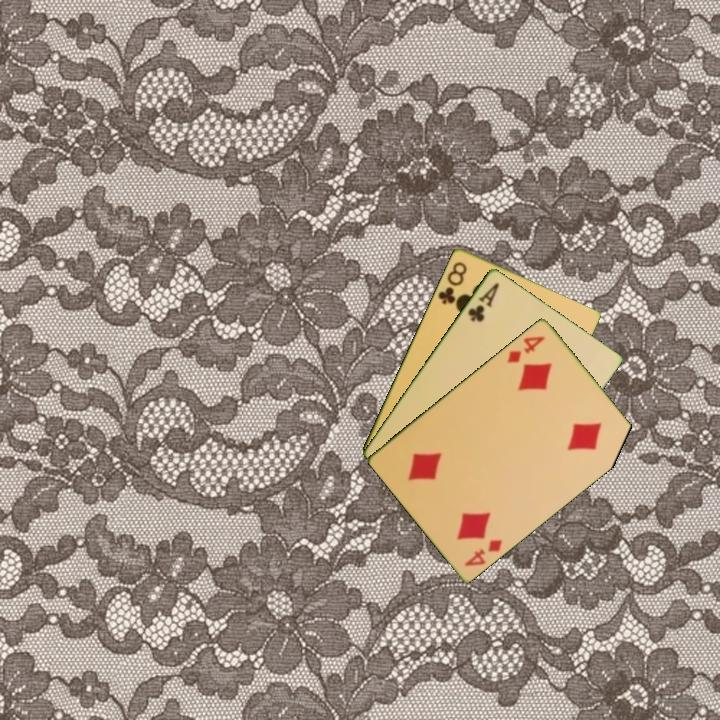4d: (504, 332, 548, 366), (461, 535, 505, 569)
8c: (434, 258, 470, 307)
Ac: (464, 278, 502, 325)
